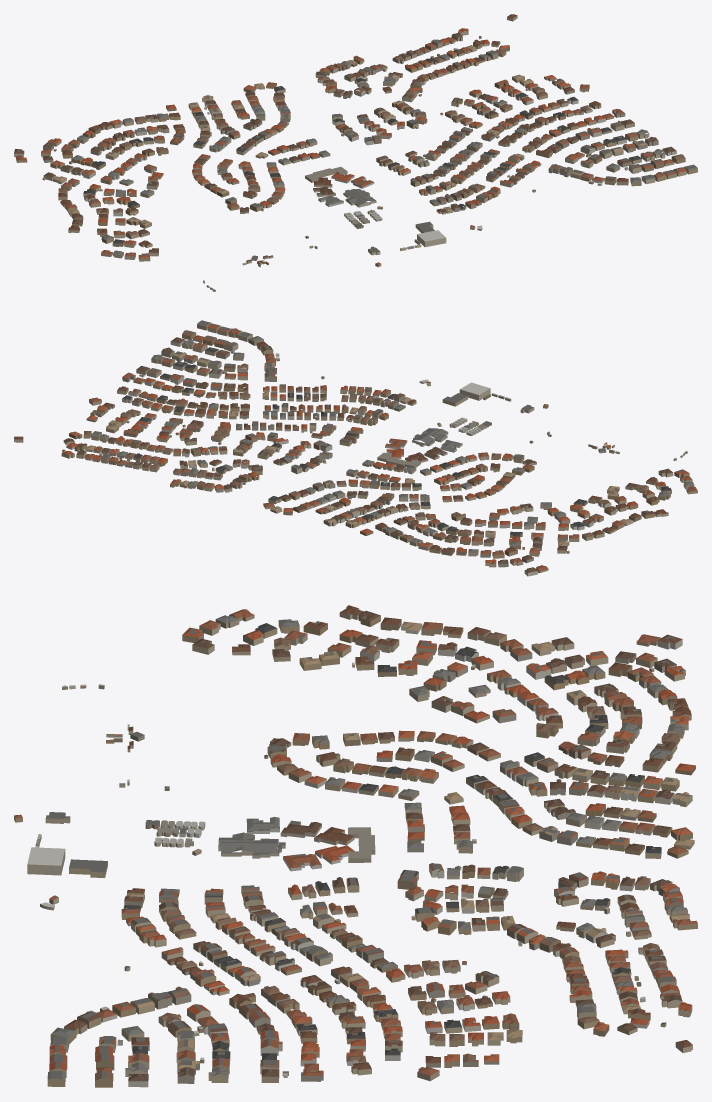
3 views of the same model, one above another, from view 1: azimuth 30°, elevation 25°; view 2: azimuth 150°, elevation 25°; view 3: azimuth 270°, elevation 25° (orthographic). The views are drawn at different scales.
Visible parts, largest first — view 1: buildings_r5_c4_lod1; view 2: buildings_r5_c4_lod1; view 3: buildings_r5_c4_lod1.
Part boxes in pixels (x1,y1,x2,y2): buildings_r5_c4_lod1: [14, 14, 697, 291]; buildings_r5_c4_lod1: [14, 320, 697, 576]; buildings_r5_c4_lod1: [14, 605, 697, 1087].
Size of the model in its own units: 1140 by 63.58 by 710.
